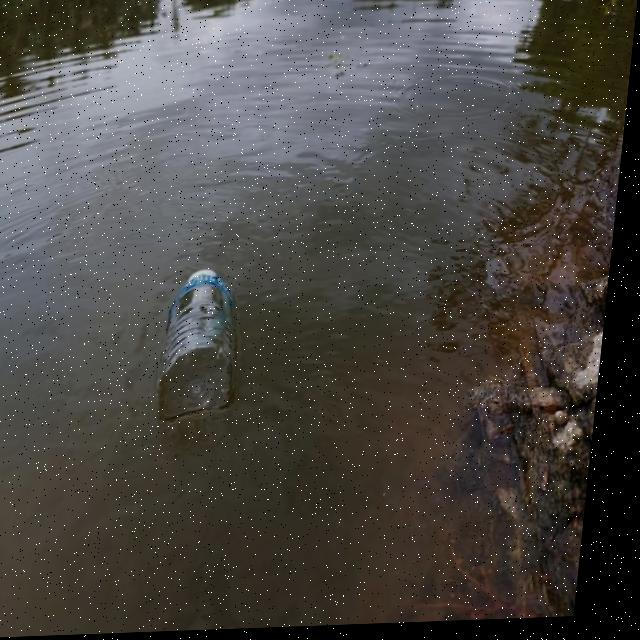waterbottle: (132, 250, 267, 436)
